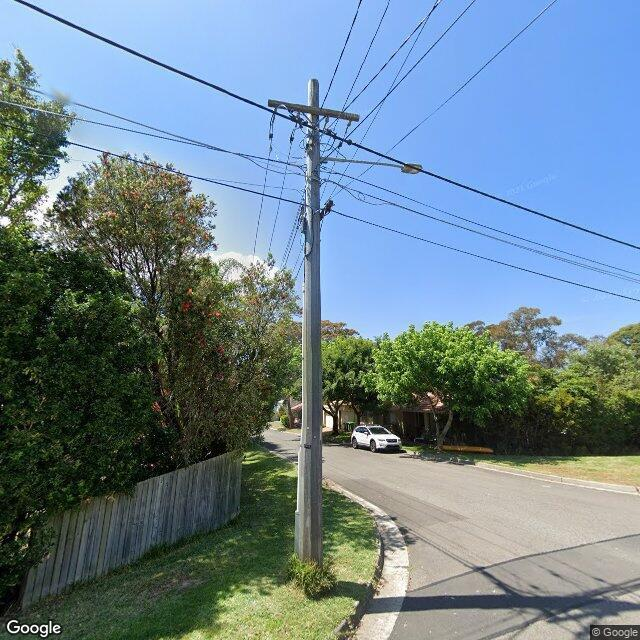crossarm: (269, 100, 360, 122)
streetlight: (320, 156, 424, 174)
timber-pole: (294, 79, 320, 584)
